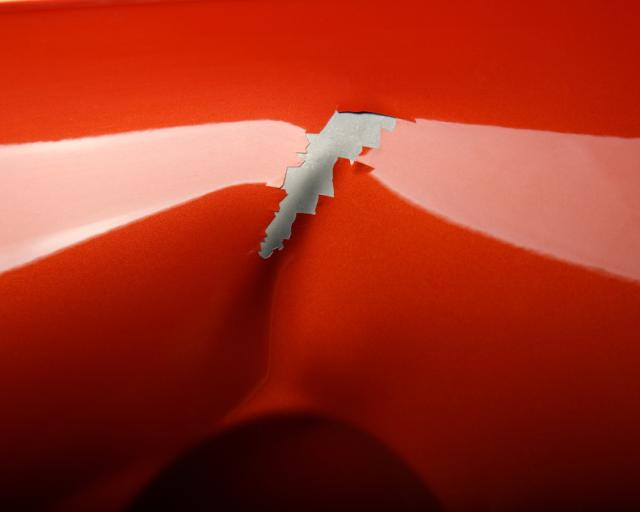dent: (208, 156, 370, 425)
